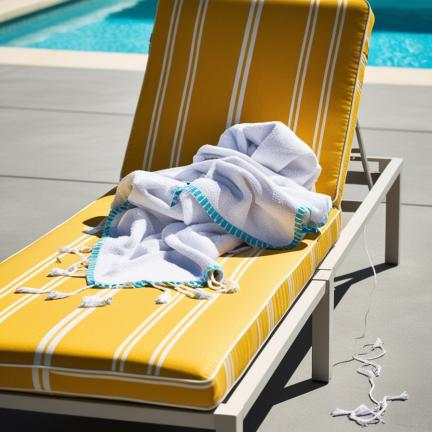occupied chair: (0, 0, 402, 432)
